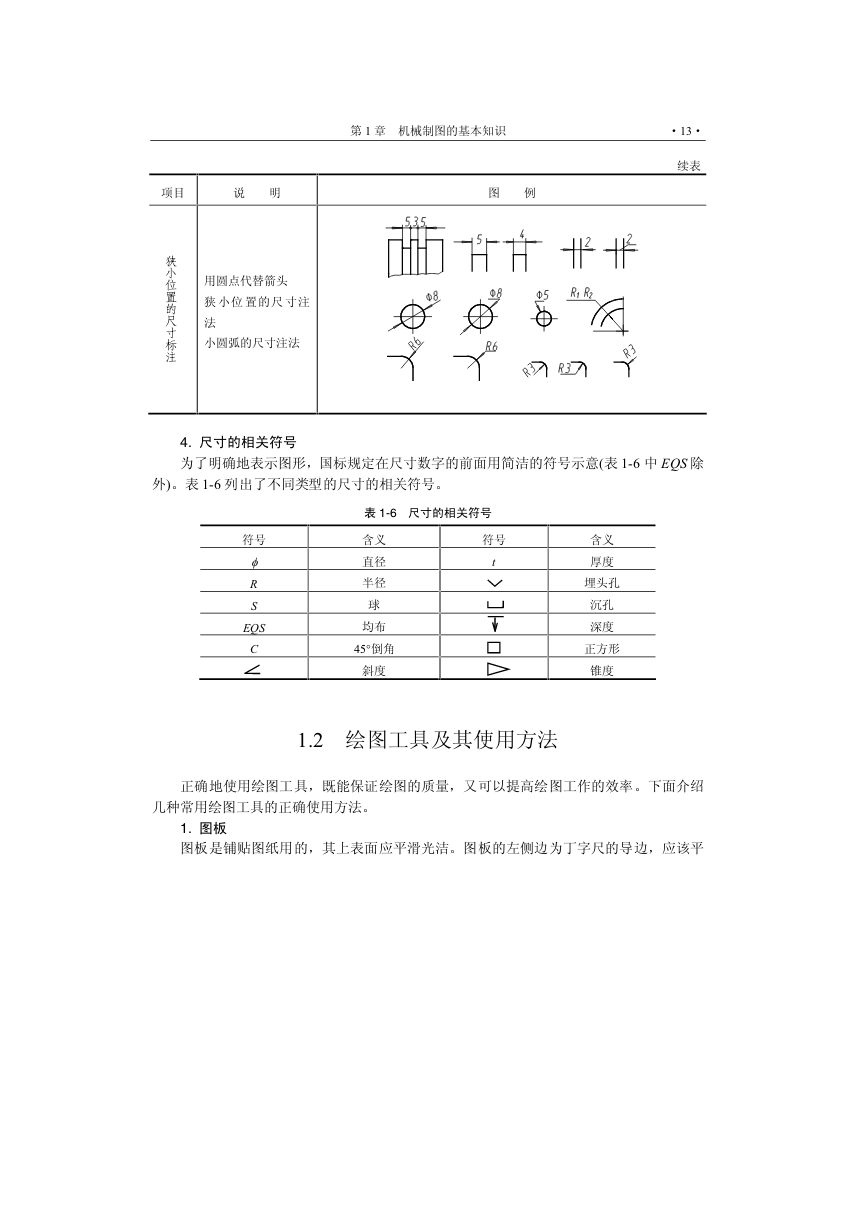table: (148, 173, 706, 414), (199, 524, 655, 680)
